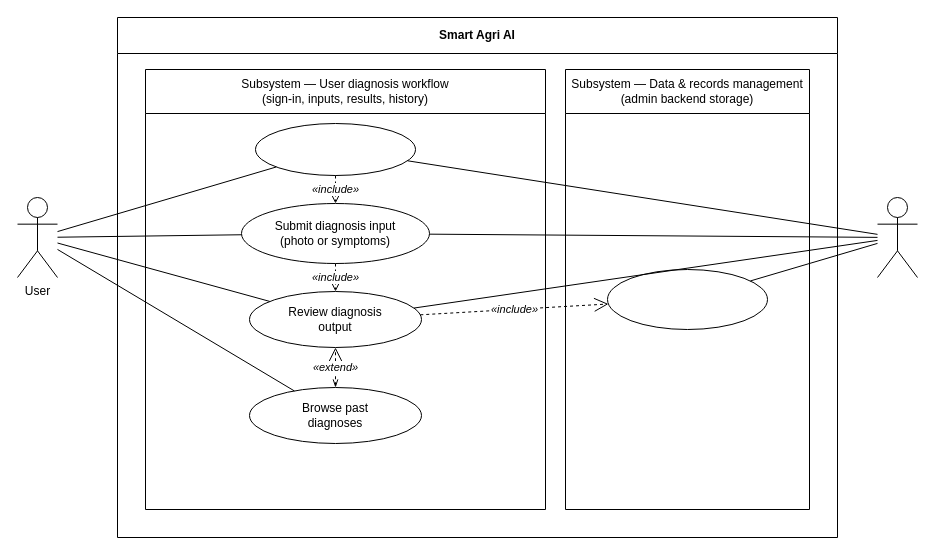
The diagram is 935 pixels wide and 555 high, and some of its shapes have lost their labels. The centre of each missing label's shape, as x and y in pixels:
"Admin" goes at pixel 897 237.
"Maintain application data" goes at pixel 687 299.
"Verify identity" goes at pixel 335 149.
